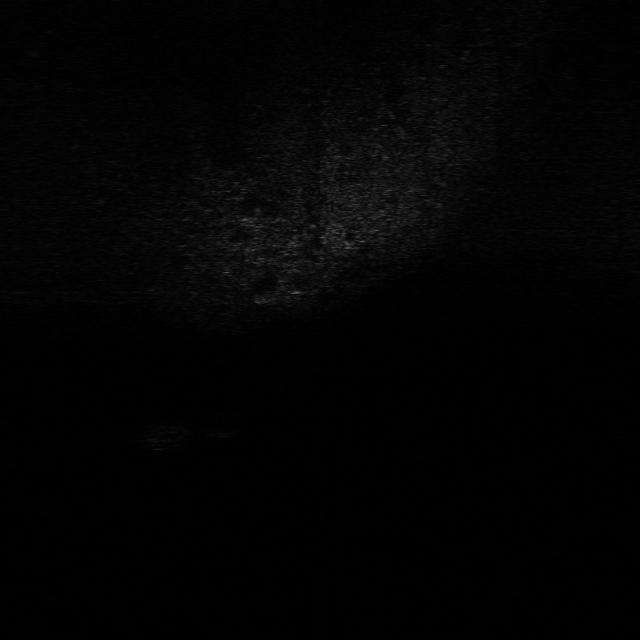ball: (200, 410, 242, 438)
circle cage: (136, 419, 197, 454)
